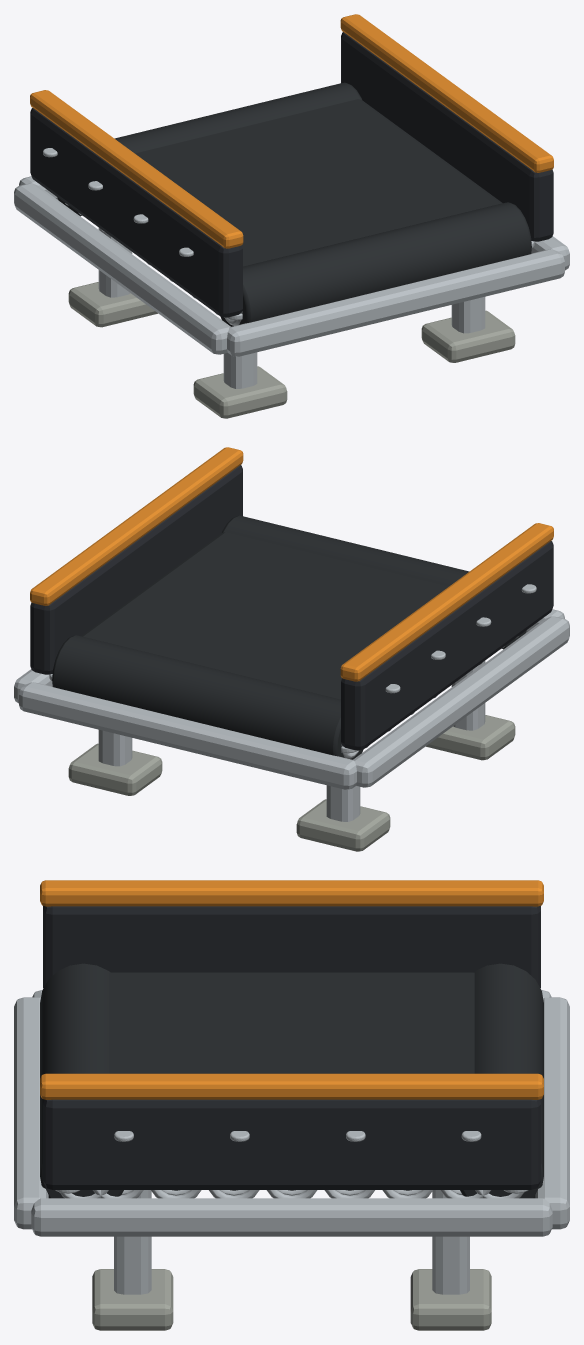
The model's file is belt.glb.
The picture shows the model from 3 angles, top to bottom: view 1: azimuth 30°, elevation 25°; view 2: azimuth 150°, elevation 25°; view 3: azimuth 270°, elevation 25°; orthographic projection. The views are drawn at different scales.
Visible parts, largest first — view 1: Main_Body, Belt_Mesh; view 2: Main_Body, Belt_Mesh; view 3: Main_Body, Belt_Mesh.
Part boxes in pixels (left/top/right/bottom): Main_Body: left=14, top=14, right=569, bottom=418; Belt_Mesh: left=135, top=99, right=502, bottom=266; Main_Body: left=14, top=447, right=569, bottom=851; Belt_Mesh: left=81, top=532, right=448, bottom=699; Main_Body: left=14, top=880, right=569, bottom=1330; Belt_Mesh: left=109, top=972, right=474, bottom=1073.
Size of the model in its own units: 1.82 by 0.995 by 1.92.
